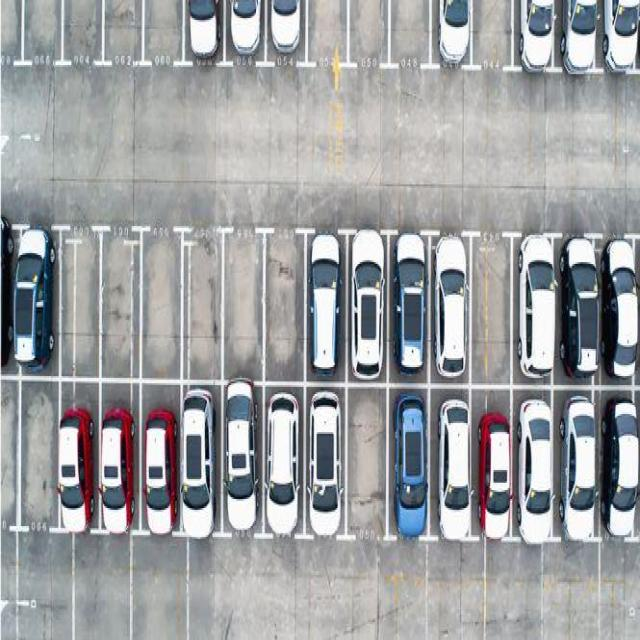space-empty: (137, 227, 184, 379), (342, 383, 388, 537), (15, 376, 60, 532), (469, 235, 515, 380), (95, 231, 140, 376), (16, 528, 75, 638), (72, 530, 131, 638), (262, 231, 305, 378), (180, 231, 223, 378), (55, 231, 98, 376), (129, 535, 188, 638), (541, 537, 599, 638), (485, 537, 542, 638), (226, 231, 262, 382), (599, 541, 639, 638), (301, 0, 352, 65), (386, 0, 436, 65), (469, 0, 515, 67), (20, 0, 66, 67), (140, 0, 187, 65), (68, 2, 105, 61), (104, 0, 141, 58), (355, 1, 383, 68)
space-occupied: (6, 220, 58, 372), (509, 234, 560, 382), (430, 385, 476, 537), (511, 388, 557, 538), (303, 383, 347, 537), (556, 391, 602, 538), (387, 385, 431, 537), (218, 382, 262, 532), (95, 382, 139, 532), (344, 230, 388, 380), (262, 380, 305, 533), (137, 380, 180, 533), (428, 235, 473, 380), (303, 234, 347, 382), (387, 234, 431, 382), (55, 382, 98, 532), (473, 385, 514, 537), (554, 231, 595, 383), (178, 382, 219, 532), (599, 388, 639, 540), (598, 234, 639, 382), (512, 0, 558, 69), (428, 0, 476, 65), (222, 0, 270, 65), (556, 0, 599, 72), (263, 0, 306, 67), (600, 0, 638, 74), (185, 0, 222, 69)
